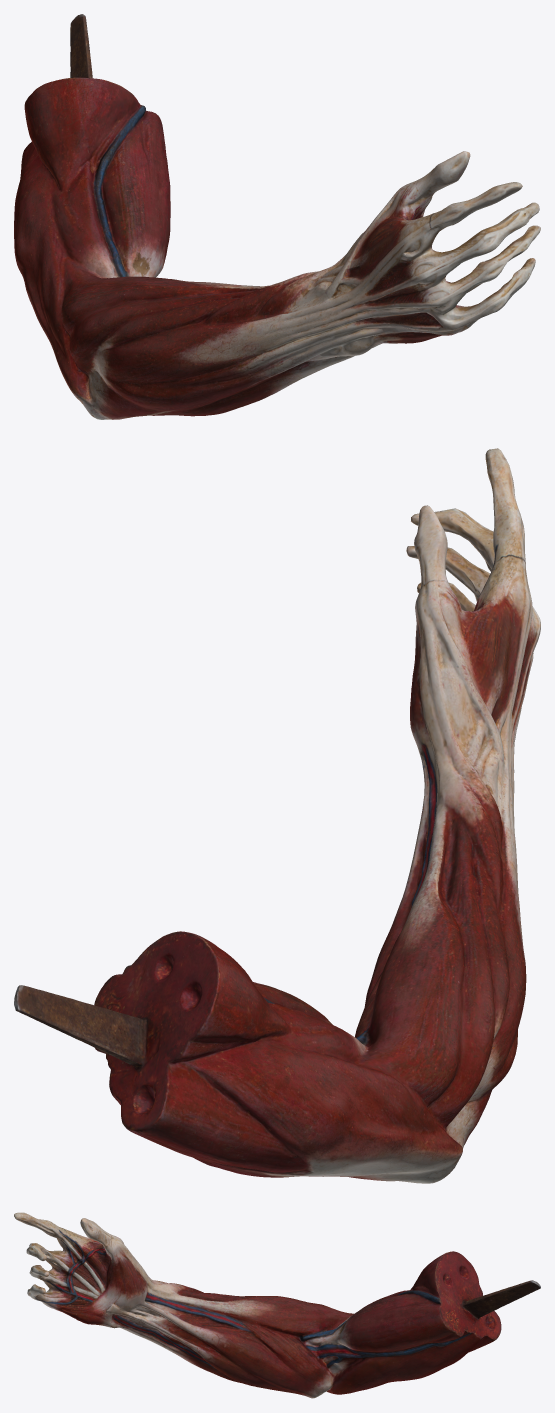
The model's file is arm.glb.
3 views of the same model, one above another, from view 1: azimuth 30°, elevation 25°; view 2: azimuth 150°, elevation 25°; view 3: azimuth 270°, elevation 25° (orthographic). The views are drawn at different scales.
Parts seen in each view (by area): view 1: Object_2; view 2: Object_2; view 3: Object_2.
Part boxes in pixels (x1,y1,x2,y2): Object_2: [14, 14, 540, 419]; Object_2: [14, 448, 540, 1183]; Object_2: [14, 1212, 540, 1398].
Size of the model in its own units: 0.1717 by 0.227 by 0.4687.
Materials: 1 (1 with a texture image).
